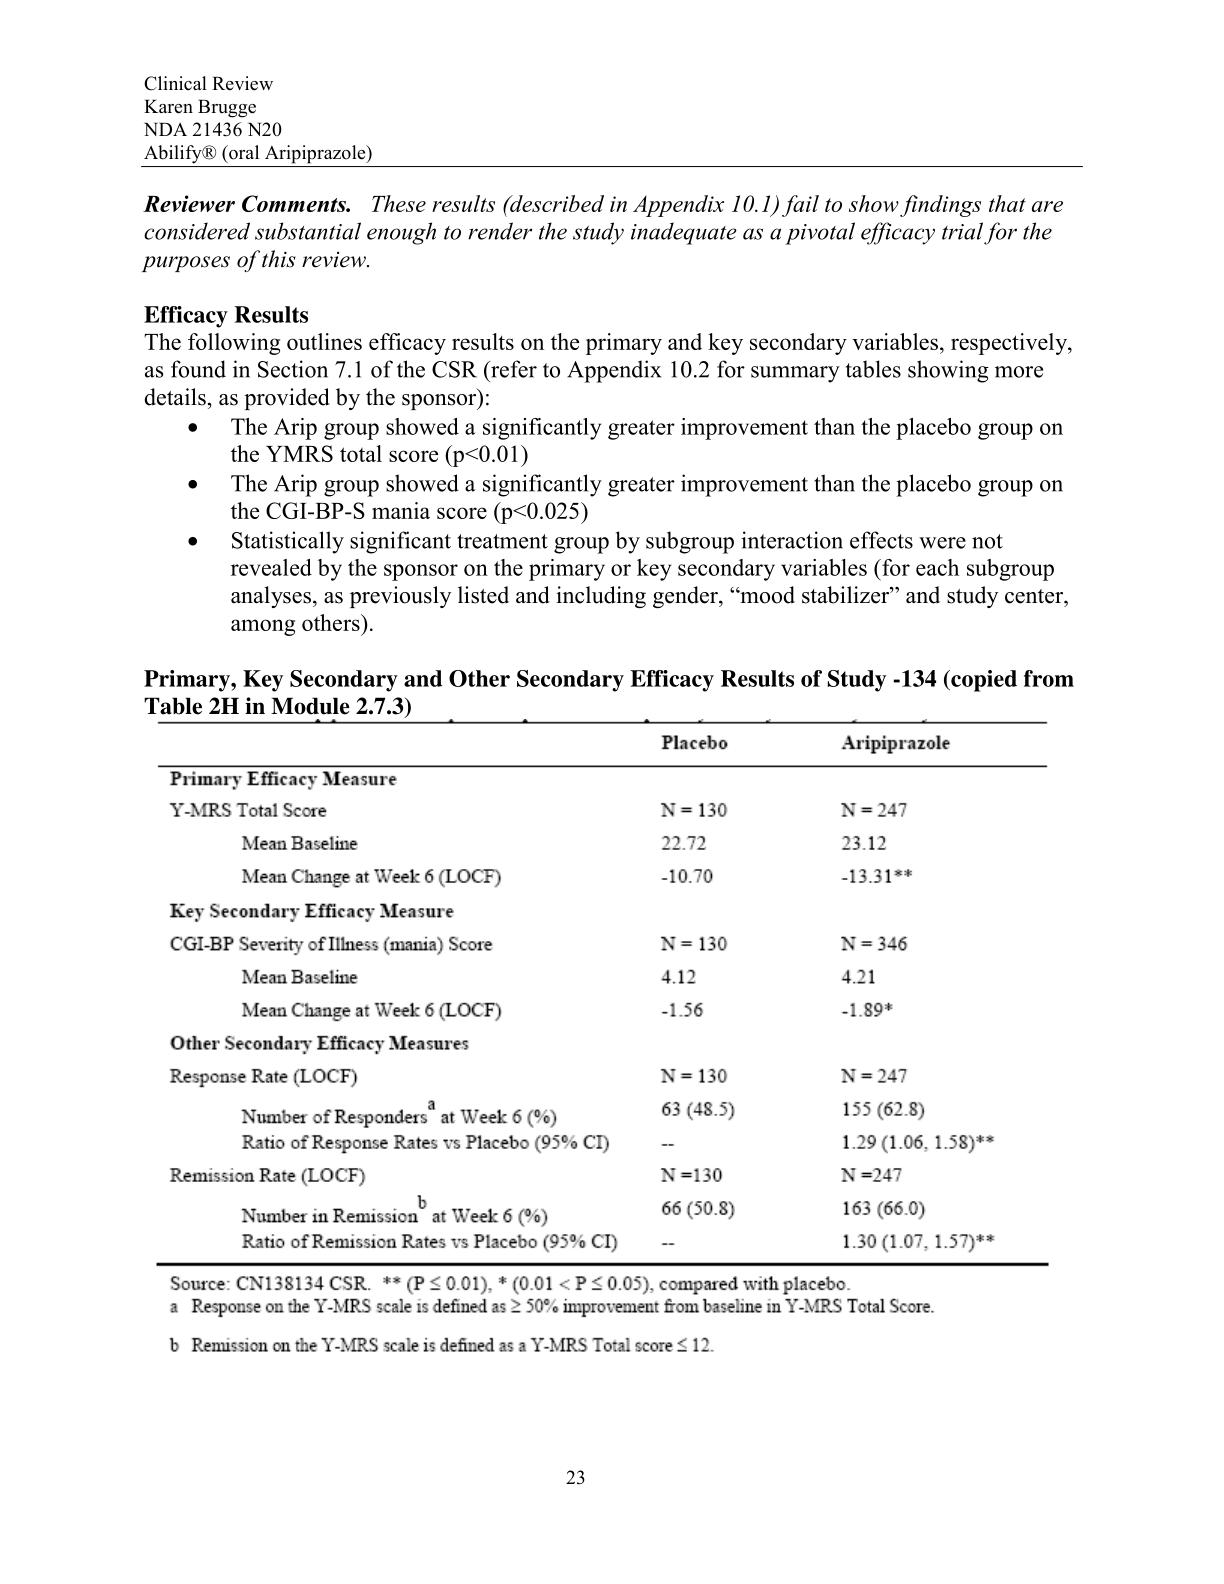partial_lined: (156, 720, 1049, 1268)
